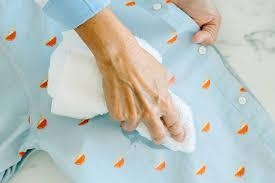oil: (141, 139, 163, 152), (124, 133, 142, 144)
